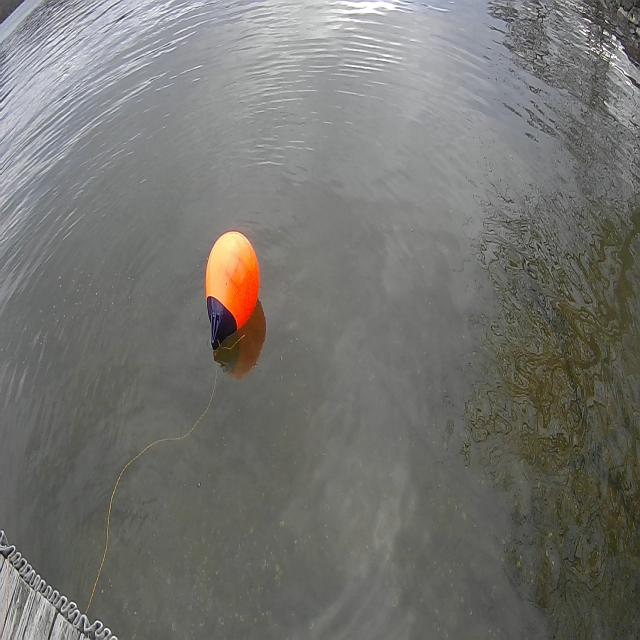Buoy: (194, 215, 272, 364)
